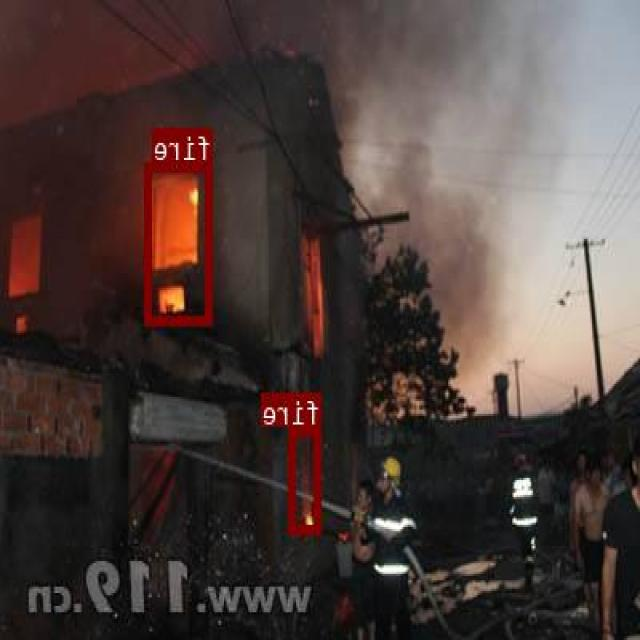fire: (146, 160, 214, 324), (291, 425, 322, 533)
